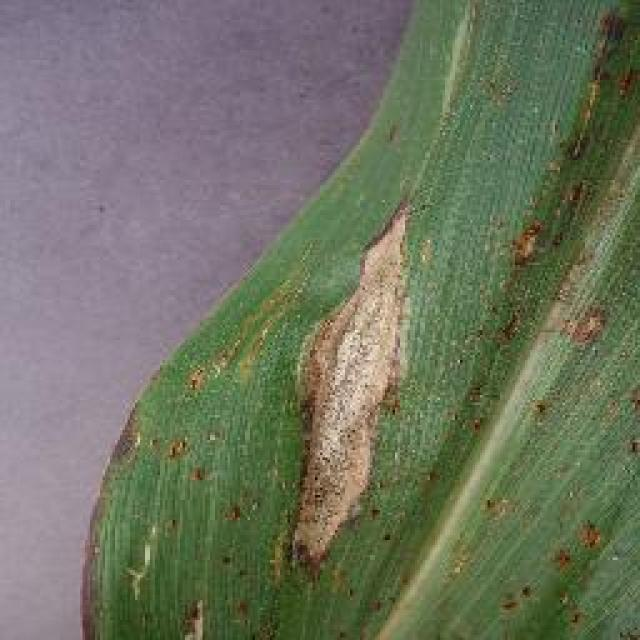Corn___Northern_Leaf_Blight: (55, 2, 637, 640)
